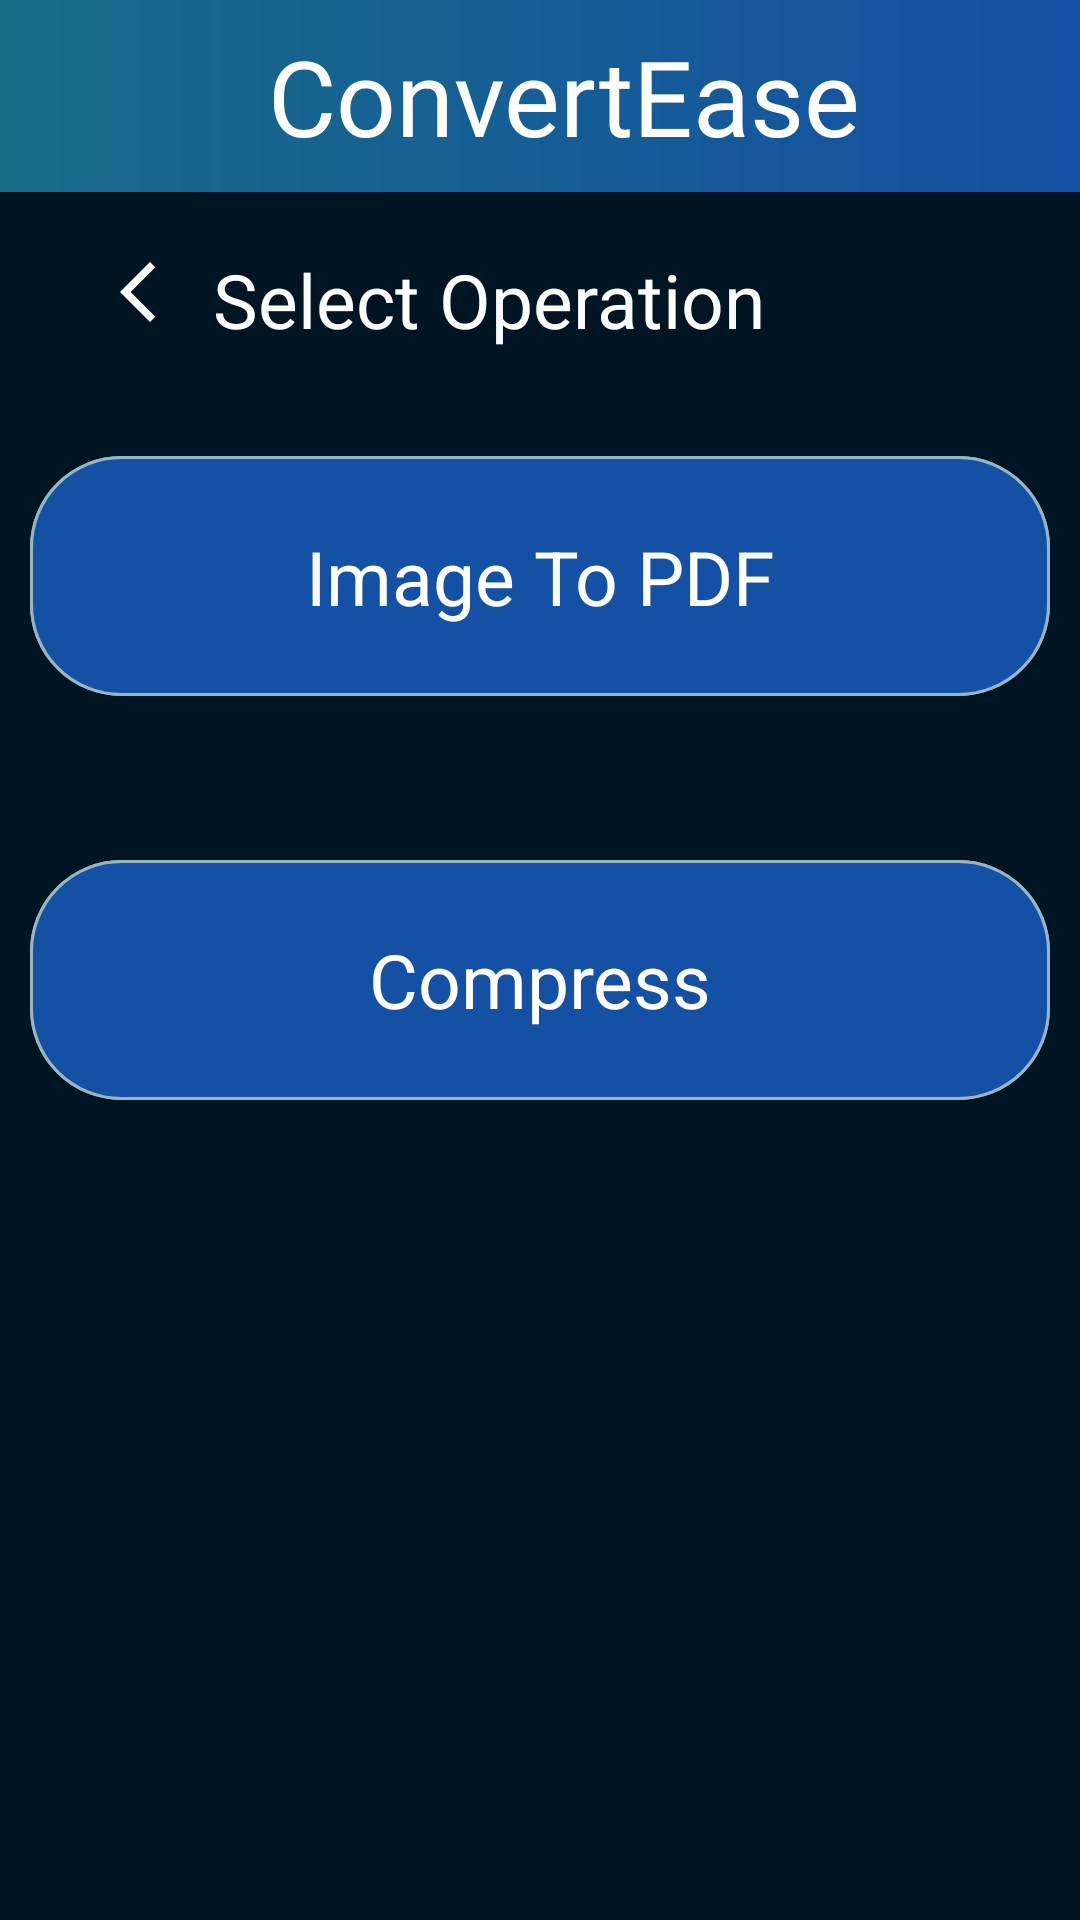

Icon bounding boxes for this 1080×1920 phone screenshot, format box(x1, y1, x2, y2):
arrow back: box(120, 262, 155, 322)
